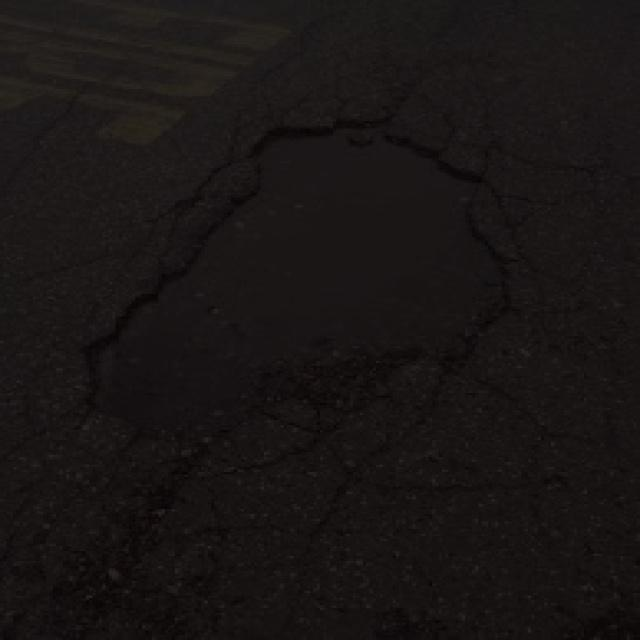Pothole: (64, 98, 524, 456)
